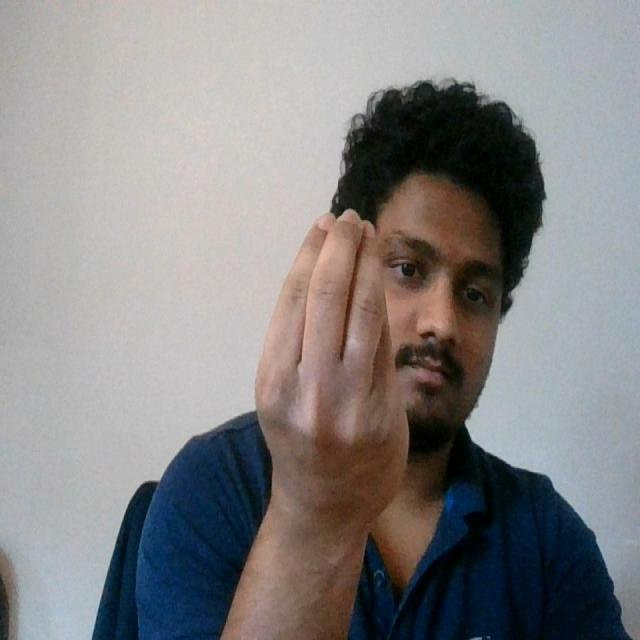Please: (244, 199, 415, 536)
